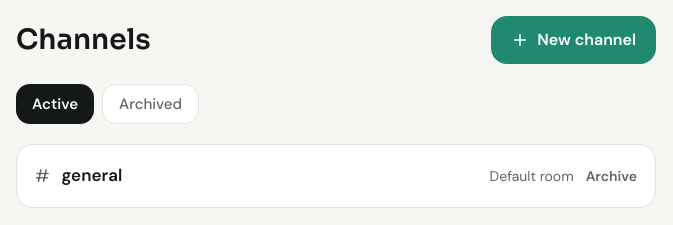
channels/+page.svelte › shows archived channels behind the Archived chip
The image size is (673, 225).
Expected: the text "general" is shown, x1=62 y1=163 x2=122 y2=189
Click the button "Archived".
click(150, 104)  # box x1=102 y1=84 x2=199 y2=124
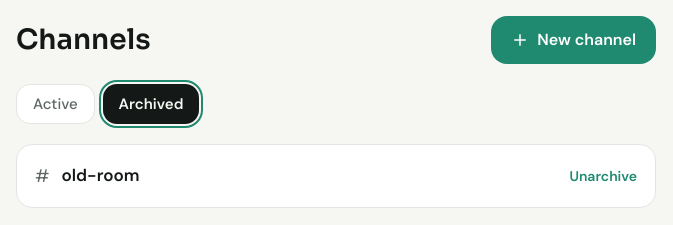
Expected: the text "old-room" is shown, x1=62 y1=163 x2=140 y2=189
